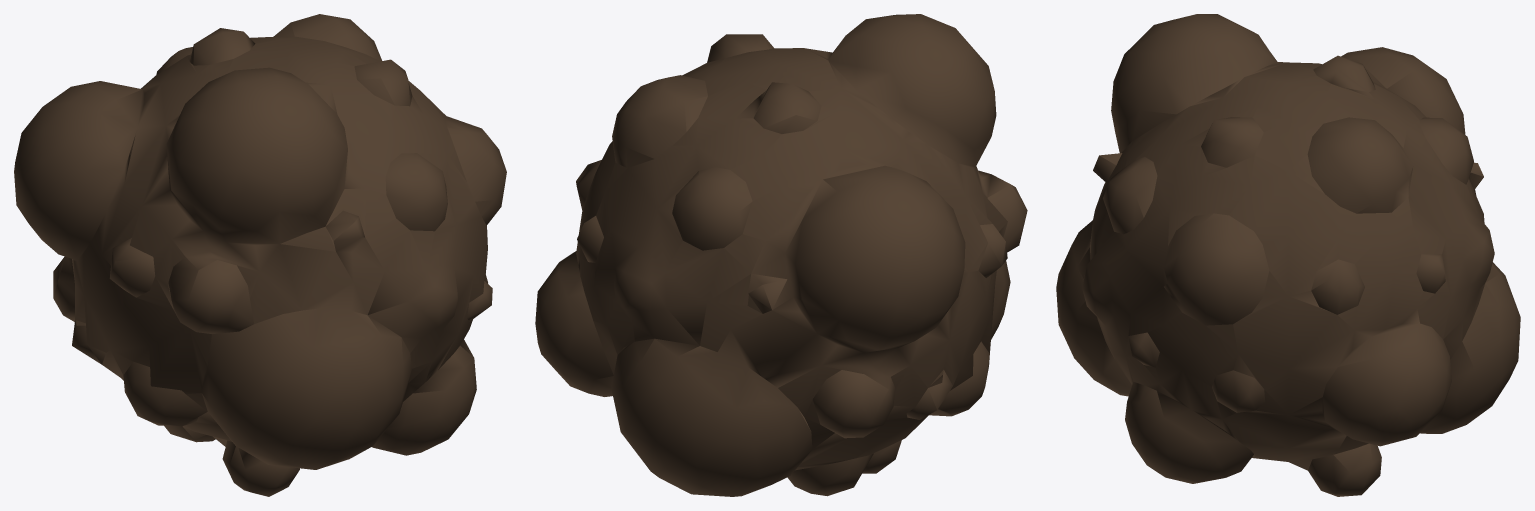
The model's file is bubble.fbx.
3 views of the same model, side by side, from view 1: azimuth 30°, elevation 25°; view 2: azimuth 150°, elevation 25°; view 3: azimuth 270°, elevation 25° (orthographic). The views are drawn at different scales.
Parts seen in each view (by area): view 1: Mesh_0.001; view 2: Mesh_0.001; view 3: Mesh_0.001.
Part boxes in pixels (x1=…): Mesh_0.001: x1=14, y1=14, x2=506, y2=496; Mesh_0.001: x1=535, y1=14, x2=1027, y2=496; Mesh_0.001: x1=1056, y1=14, x2=1520, y2=496.
Size of the model in its own units: 5541 by 5697 by 5791.
